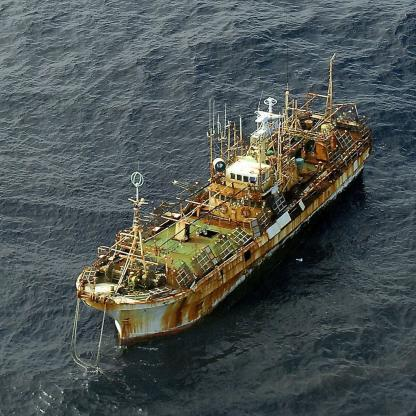fishing boat: (82, 106, 362, 311)
